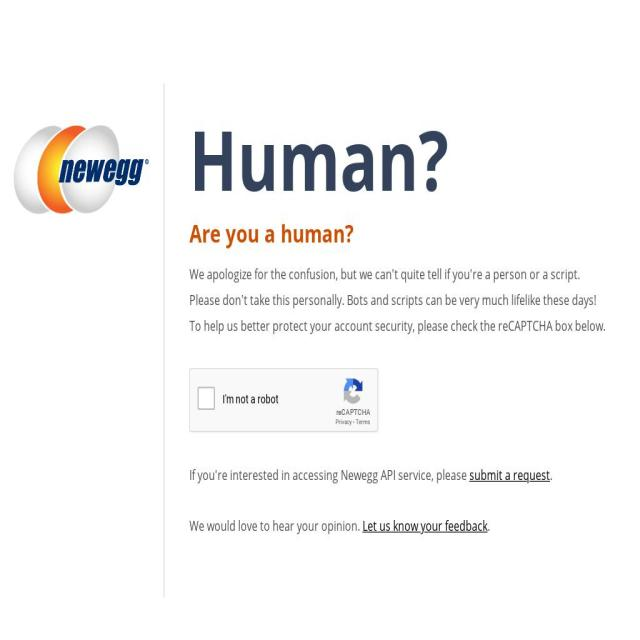heading: (189, 108, 626, 208), (189, 217, 626, 249)
iframe: (190, 368, 380, 434)
image: (13, 125, 148, 214)
link: (362, 517, 488, 535), (469, 466, 550, 484)
text: (189, 317, 626, 335), (189, 266, 626, 283), (189, 292, 626, 309), (190, 466, 470, 484), (190, 517, 362, 535), (550, 466, 552, 484), (488, 517, 490, 535)
